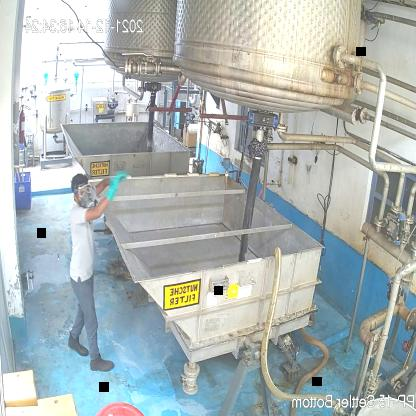goggles: (76, 180, 93, 198)
mask: (80, 194, 96, 214)
shoes: (65, 331, 91, 359), (87, 350, 113, 376)
